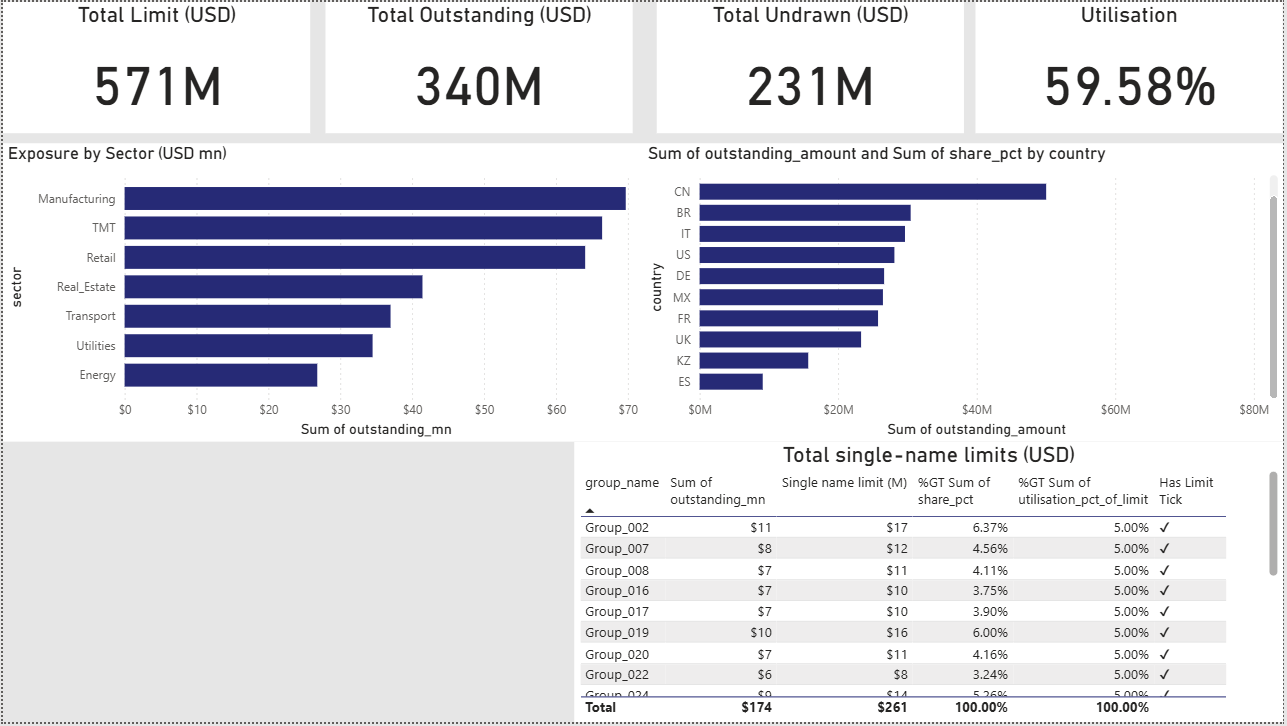

This screenshot's page, from the dashboard's own definition file:
{"tool":"powerbi","page":{"name":"Corporate Exposure Overview","canvas":[1280,720],"ordinal":0},"visuals":[{"type":"card","title":"Total Outstanding (USD)","fields":{"Values":["Sum(KPI.value)"]},"box":[322.5,0,307.5,131.2],"z":0},{"type":"card","title":"Total Limit (USD)","fields":{"Values":["Sum(KPI.value)"]},"box":[0,0,307.5,131.2],"z":1000},{"type":"card","title":"Total Undrawn (USD)","fields":{"Values":["Sum(KPI.value)"]},"box":[653.8,0,307.5,131.2],"z":2000},{"type":"card","title":"Utilisation","fields":{"Values":["Sum(KPI.value)"]},"box":[972.5,0,307.5,131.2],"z":3000},{"type":"clusteredBarChart","title":"Exposure by Sector (USD mn)","fields":{"Category":["Sector_Exposure.sector"],"Y":["Sum(Sector_Exposure.outstanding_mn)"]},"box":[0,141.2,640,298.8],"z":4000},{"type":"clusteredBarChart","fields":{"Category":["Country_Exposure.country"],"Y":["Sum(Country_Exposure.outstanding_amount)"]},"box":[640,141.2,640,298.8],"z":5000},{"type":"tableEx","title":"Total single-name limits (USD)","fields":{"Values":["Top20_Groups.group_name","Sum(Top20_Groups.outstanding_mn)","Top20_Groups.Single name limit (M)","Sum(Top20_Groups.share_pct)","Sum(Top20_Groups.utilisation_pct_of_limit)","Top20_Groups.Has Limit Tick"]},"box":[571.2,440,708.8,280],"z":5001}]}

Visuals, with their boxes in screenshot pixels (x1, y1, x2, y2), scaled from the page's 1280x720 canvas onto the 1287x726 screenshot:
"Total Outstanding (USD)" card: <box>324,0,633,132</box>
"Total Limit (USD)" card: <box>0,0,309,132</box>
"Total Undrawn (USD)" card: <box>657,0,967,132</box>
"Utilisation" card: <box>978,0,1286,132</box>
"Exposure by Sector (USD mn)" clusteredBarChart: <box>0,142,644,444</box>
clusteredBarChart - Country_Exposure.country x Sum(Country_Exposure.outstanding_amount): <box>644,142,1286,444</box>
"Total single-name limits (USD)" tableEx: <box>574,444,1286,725</box>
